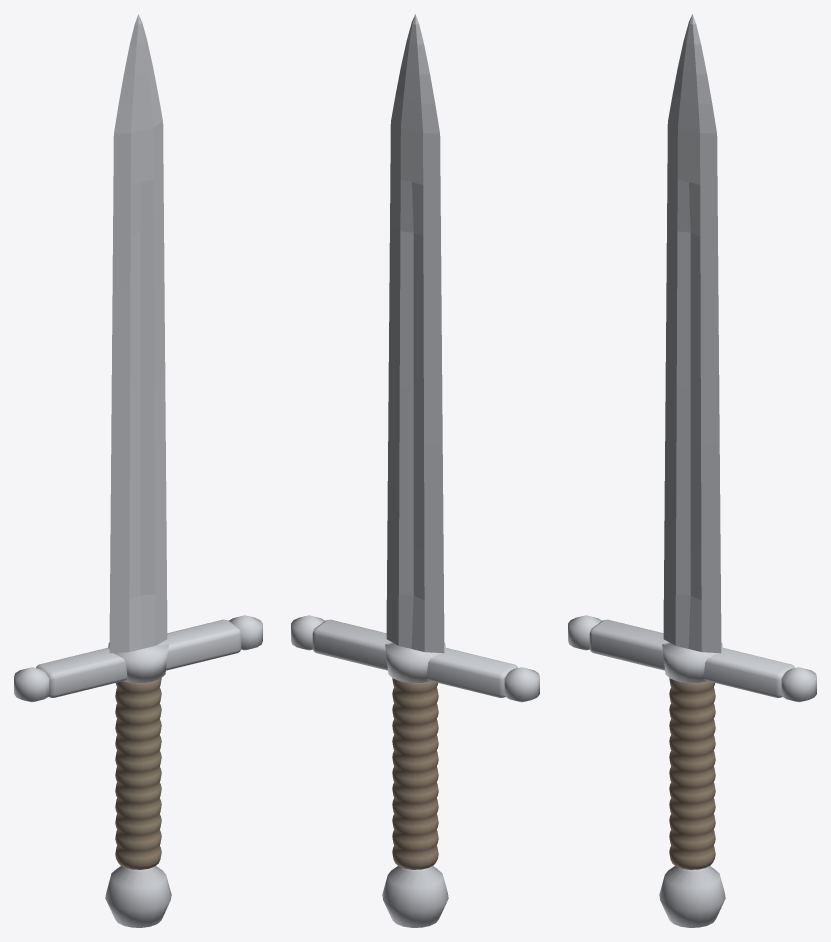
The model's file is sword_steel.glb.
The picture shows the model from 3 angles, left to right: view 1: azimuth 30°, elevation 25°; view 2: azimuth 150°, elevation 25°; view 3: azimuth 330°, elevation 25°; orthographic projection.
Parts seen in each view (by area): view 1: sword_steel_blade, sword_steel_grip, sword_steel_guard, sword_steel_pommel, sword_steel_ricasso, sword_steel_quillon-1, sword_steel_quillon1; view 2: sword_steel_blade, sword_steel_grip, sword_steel_guard, sword_steel_pommel, sword_steel_ricasso, sword_steel_quillon-1, sword_steel_quillon1; view 3: sword_steel_blade, sword_steel_grip, sword_steel_guard, sword_steel_pommel, sword_steel_ricasso, sword_steel_quillon1, sword_steel_quillon-1.
Boxes of the visible parts, x1,y1,x2,y2 form: sword_steel_blade: (109, 14, 167, 653); sword_steel_grip: (115, 678, 161, 869); sword_steel_guard: (36, 619, 241, 697); sword_steel_pommel: (105, 866, 171, 927); sword_steel_ricasso: (108, 642, 168, 683); sword_steel_quillon-1: (14, 667, 49, 702); sword_steel_quillon1: (229, 615, 262, 650); sword_steel_blade: (386, 14, 444, 653); sword_steel_grip: (392, 678, 438, 869); sword_steel_guard: (312, 619, 517, 697); sword_steel_pommel: (382, 866, 448, 927); sword_steel_ricasso: (385, 642, 445, 683); sword_steel_quillon-1: (504, 667, 539, 702); sword_steel_quillon1: (291, 615, 324, 650); sword_steel_blade: (663, 14, 721, 653); sword_steel_grip: (669, 678, 715, 869); sword_steel_guard: (589, 619, 794, 697); sword_steel_pommel: (659, 866, 725, 927); sword_steel_ricasso: (662, 642, 722, 683); sword_steel_quillon1: (781, 667, 816, 702); sword_steel_quillon-1: (568, 615, 601, 650).
Bounding box in the file's own units: 0.202 × 0.72 × 0.048.
